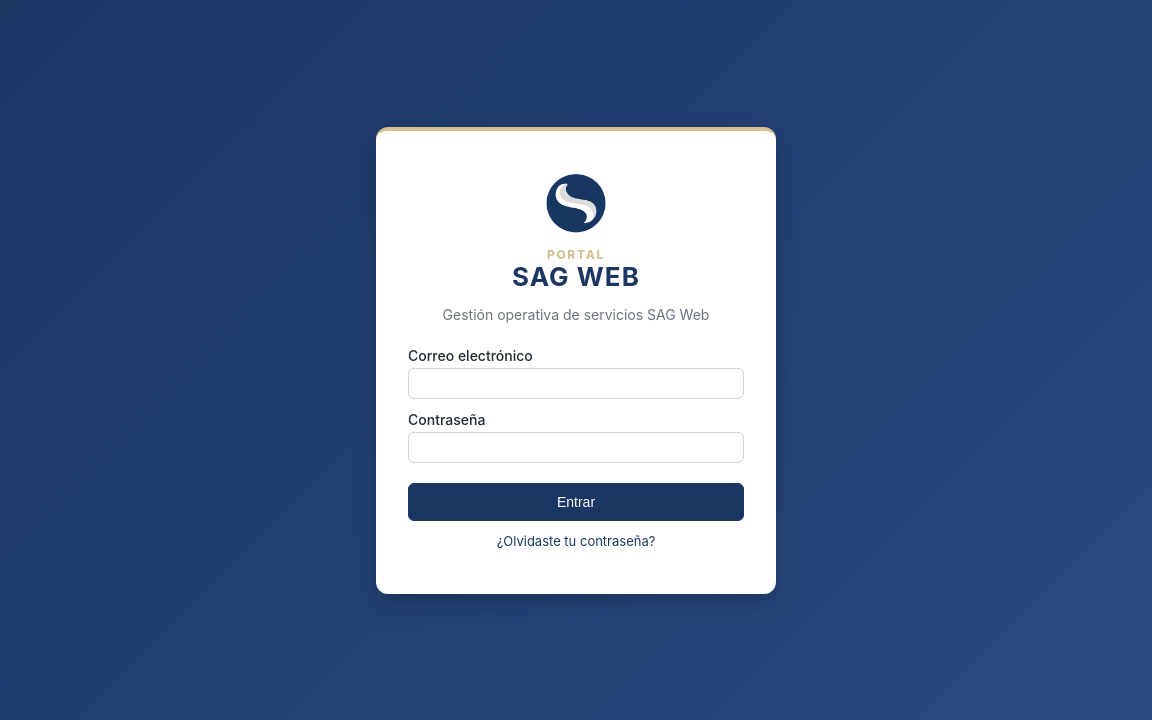
Test case: LoginPage seguro › envía la nueva contraseña y vuelve al login tras el cambio
Type "user@x.com" into the field labelled "Correo electrónico" at (576, 383), box [408,368,744,398]
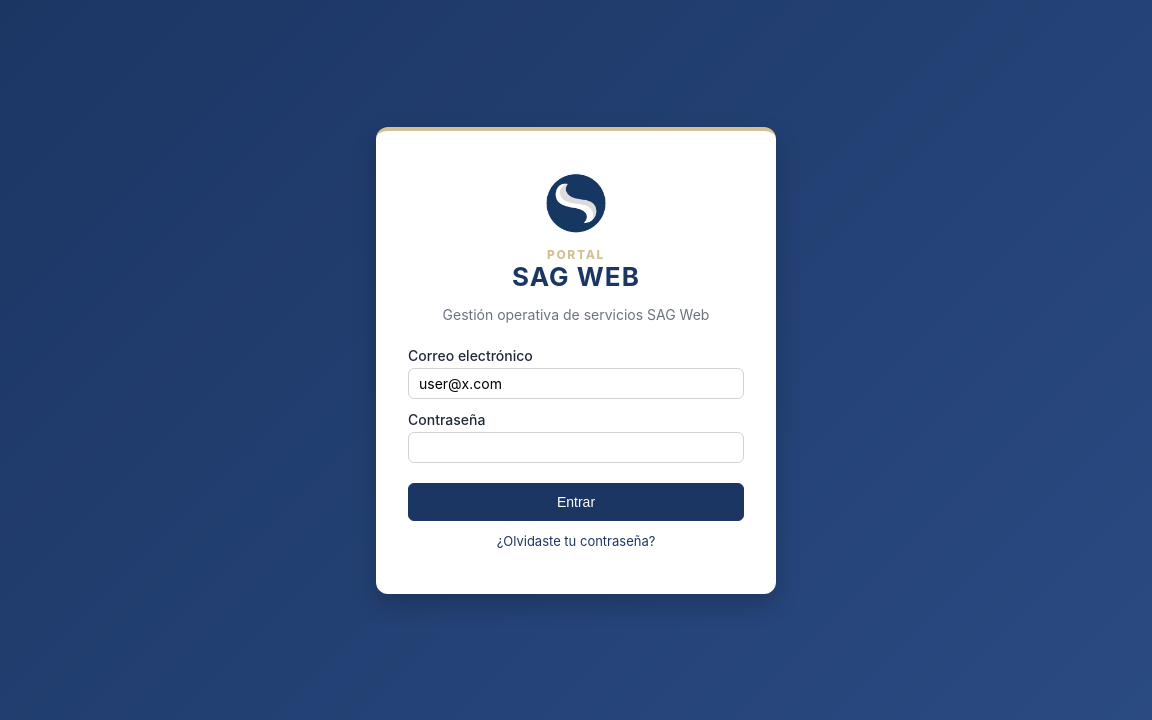
Type "Temporal muy segura 2026" into the password field labelled "Contraseña" at (576, 447), box [408,432,744,462]
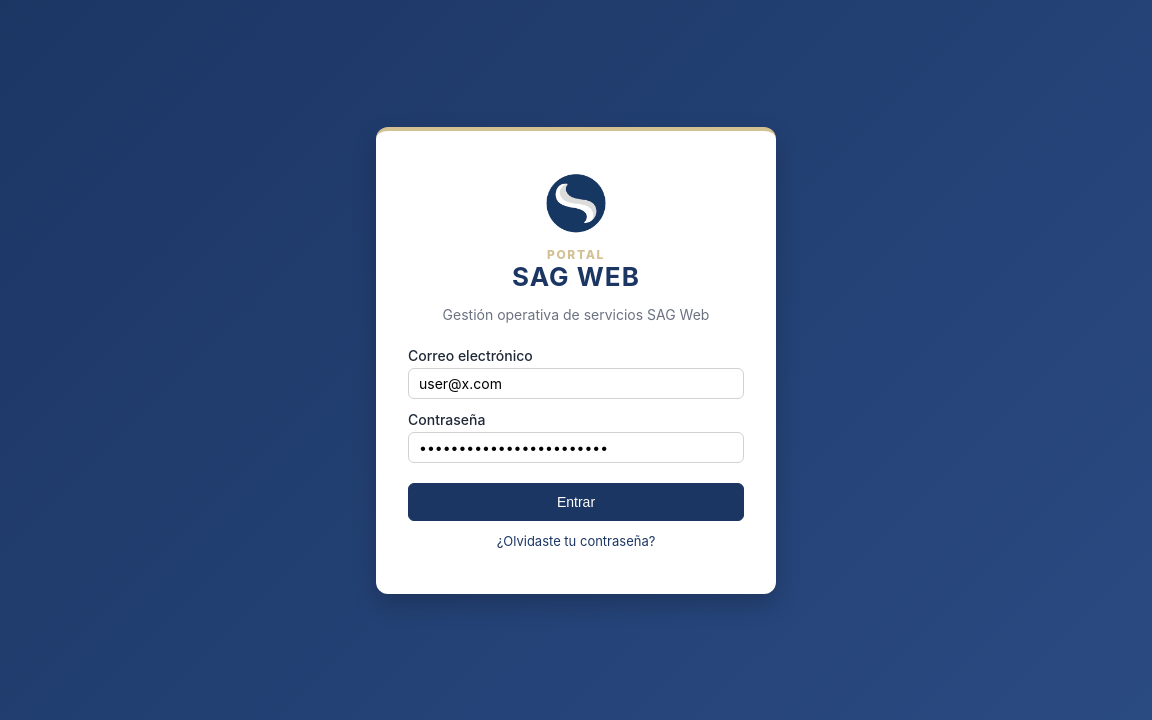
Click the button "Entrar" at (576, 502), box [408,482,744,520]
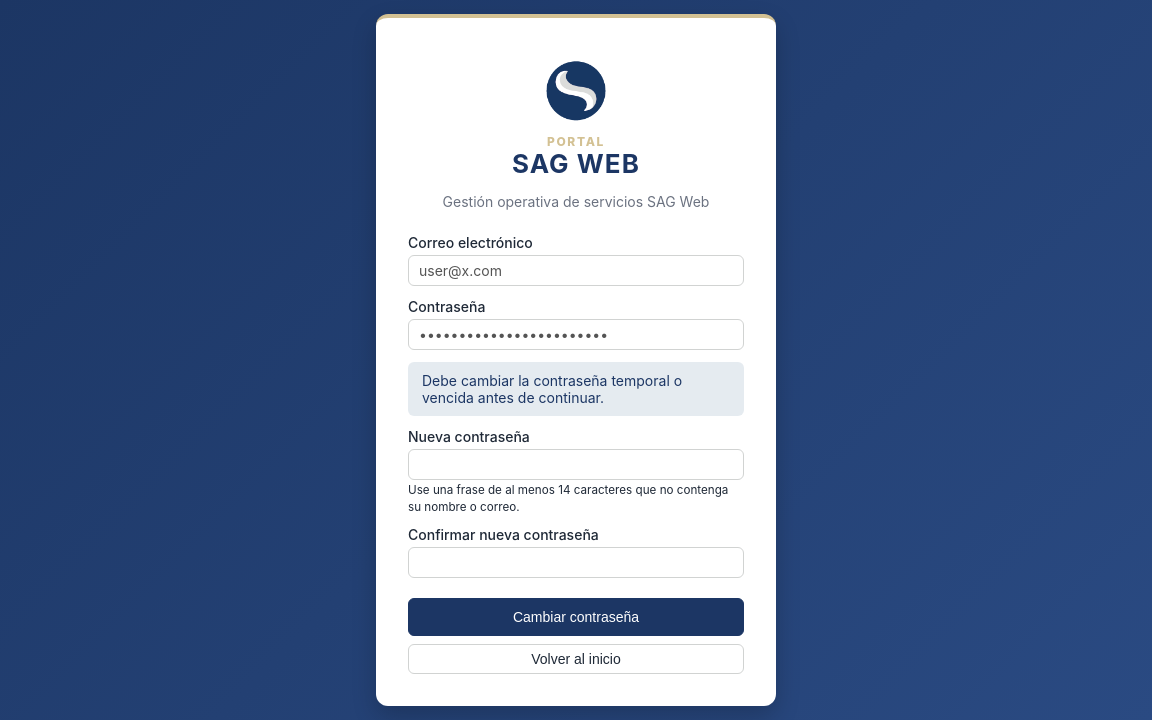
Type "Una frase realmente segura 2026" into the password field labelled "Nueva contraseña" at (576, 464), box [408,449,744,480]
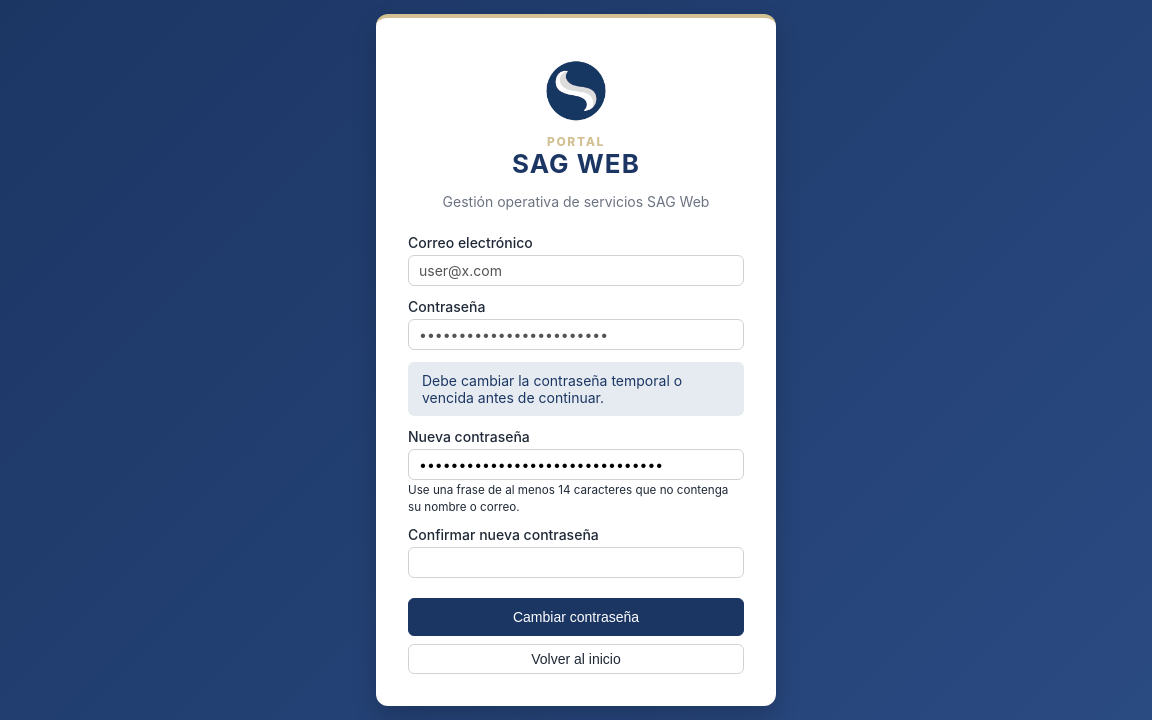
Type "Una frase realmente segura 2026" into the password field labelled "Confirmar nueva contraseña" at (576, 562), box [408,547,744,578]
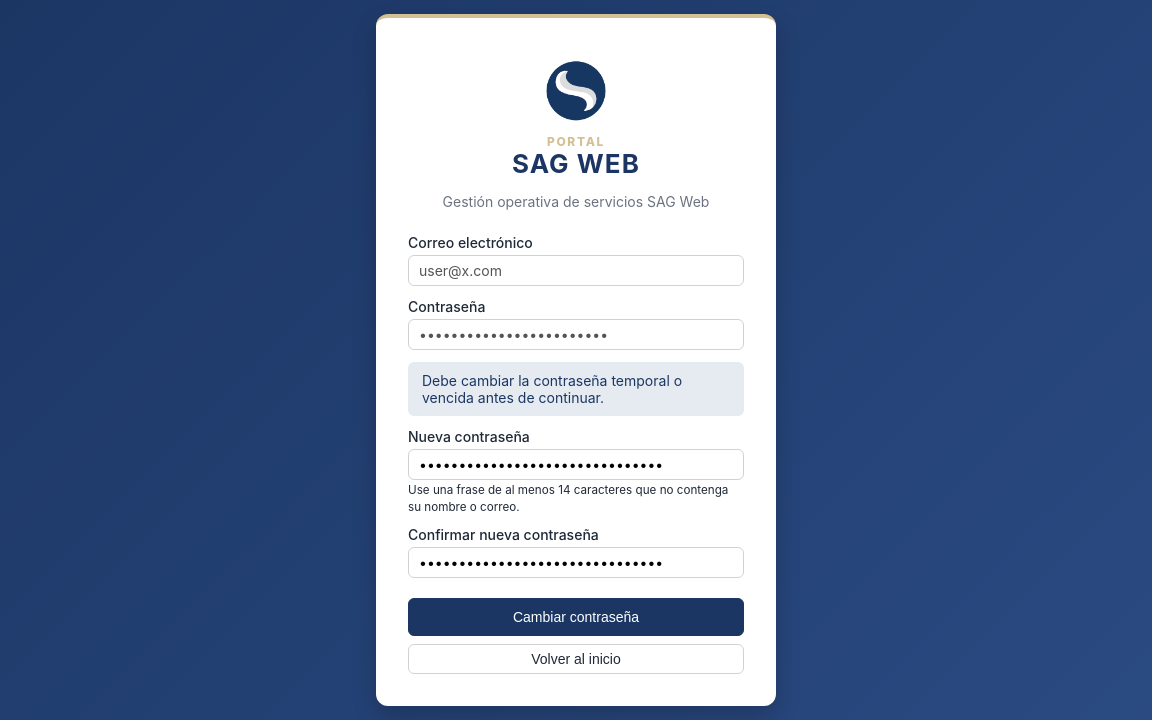
Click the button "Cambiar contraseña" at (576, 617), box [408,598,744,636]
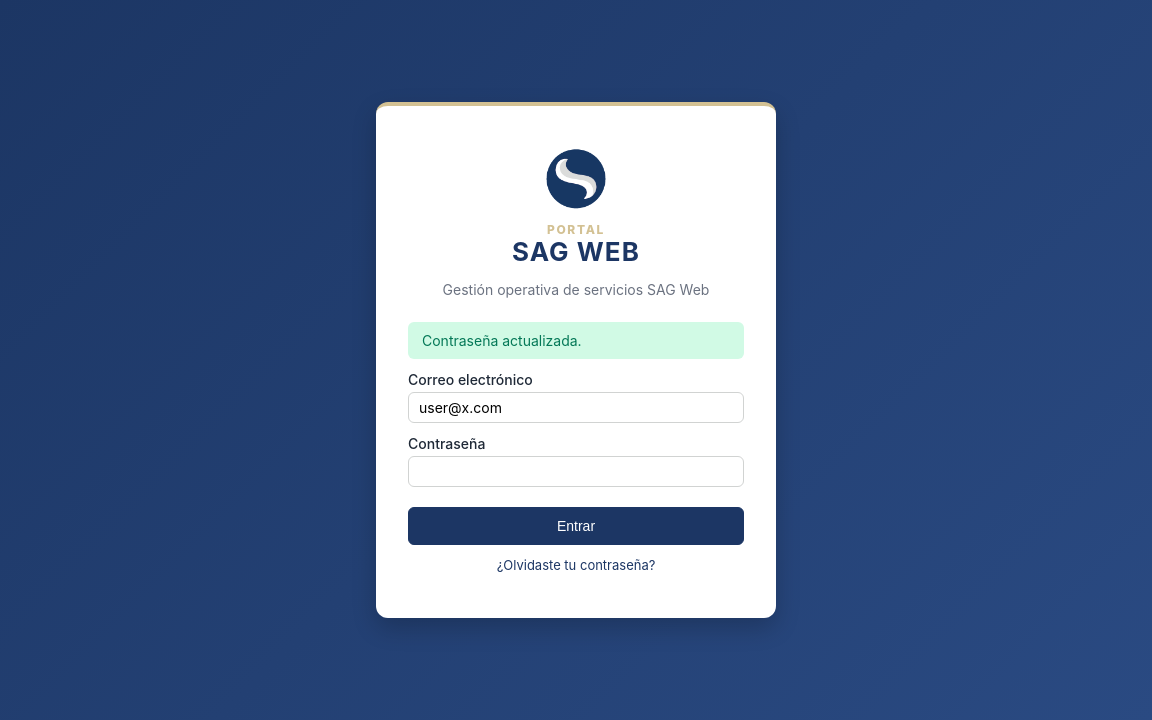
expect the text "Contraseña actualizada." is shown: met, box [408,322,744,359]
